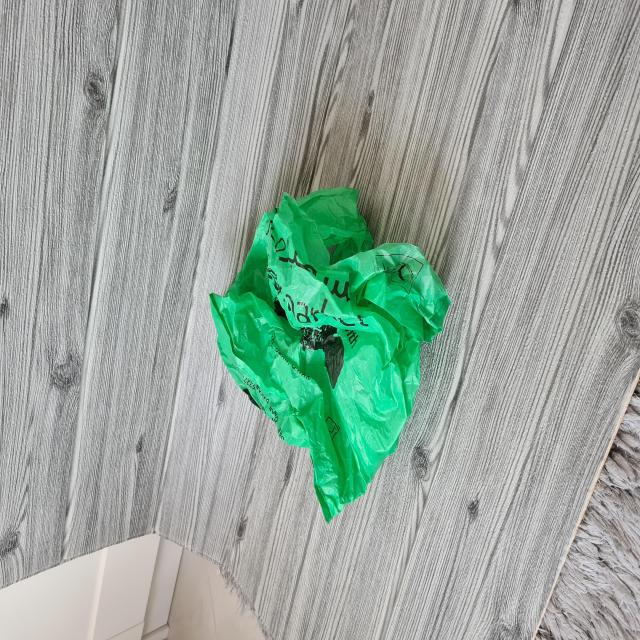plastic bag: (212, 185, 447, 520)
